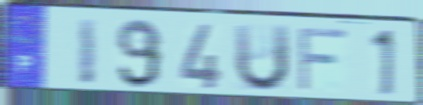1: (369, 28, 397, 98)
4: (178, 21, 224, 91)
9: (115, 17, 164, 91)
F: (296, 25, 350, 94)
I: (75, 16, 99, 88)
U: (232, 22, 292, 94)
